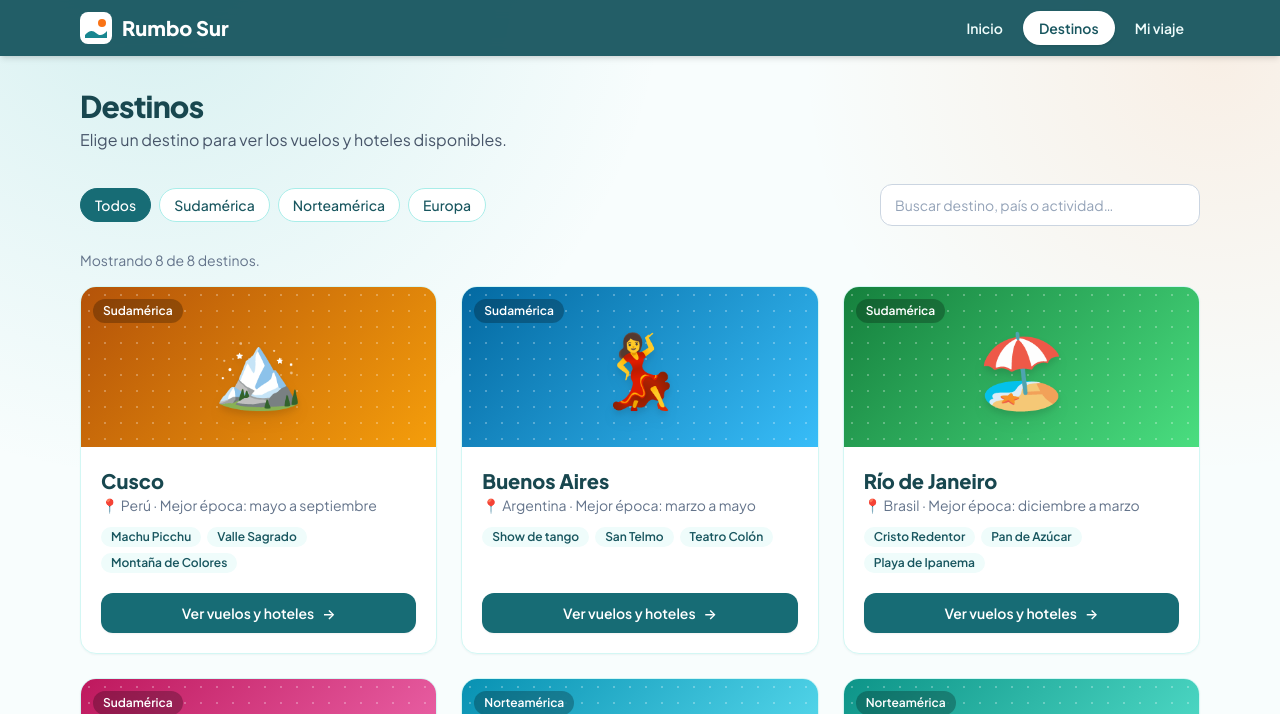
Scenario: API REST mock: destinos › lista los destinos con su país y filtra por continente
Expected: the heading "Cusco" is shown, x1=101 y1=468 x2=164 y2=493
Expected: the text "Mostrando 8 de 8 destinos." is shown, x1=80 y1=251 x2=260 y2=269
Step 1. Click the button "Europa" → (447, 205), box x1=408 y1=188 x2=486 y2=222
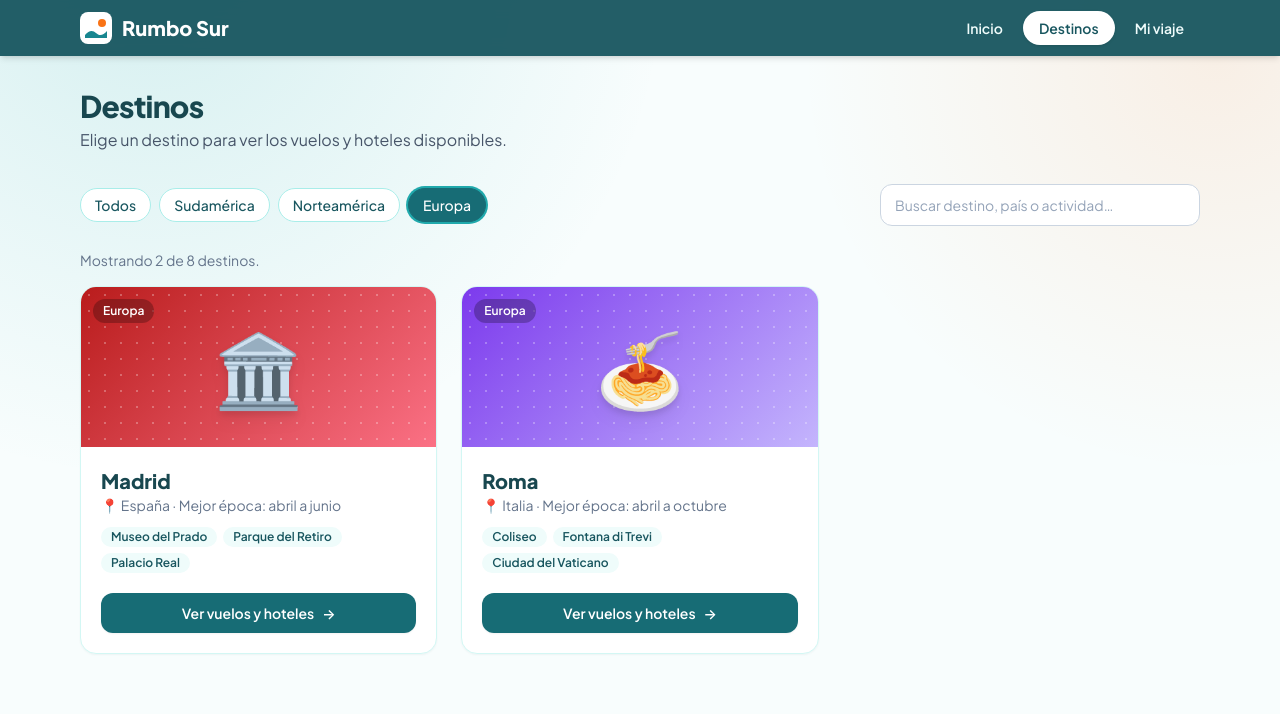
Expected: the heading "Madrid" is shown, x1=101 y1=468 x2=171 y2=493
Expected: the text "Mostrando 2 de 8 destinos." is shown, x1=80 y1=251 x2=259 y2=269
Expected: the heading "Cusco" is gone
